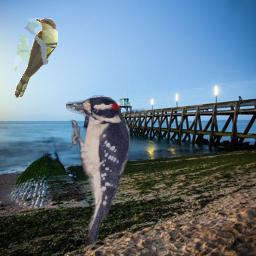Cuckoo: (14, 18, 58, 99)
Woodpecker: (66, 93, 133, 245)
